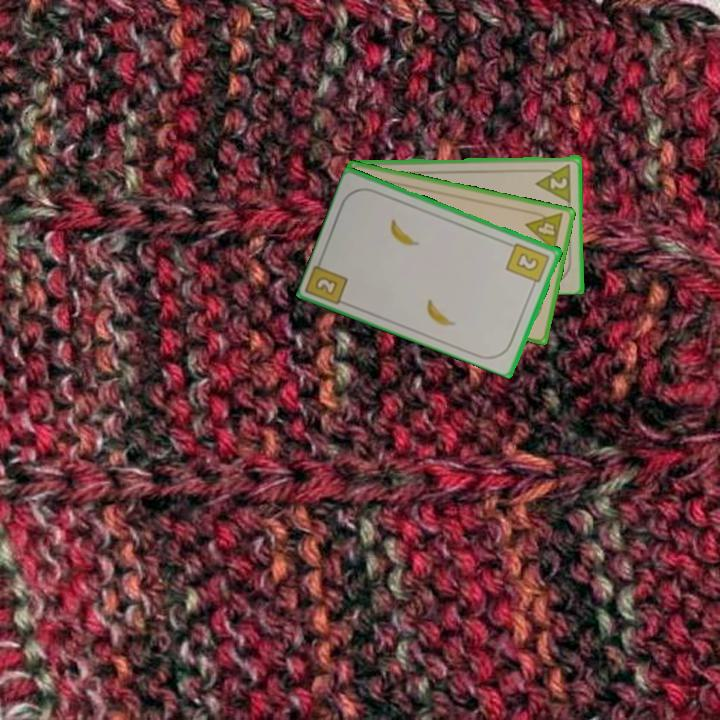2b: (503, 239, 553, 290), (312, 273, 341, 298)
2p: (533, 160, 574, 203)
4p: (522, 207, 566, 254)
